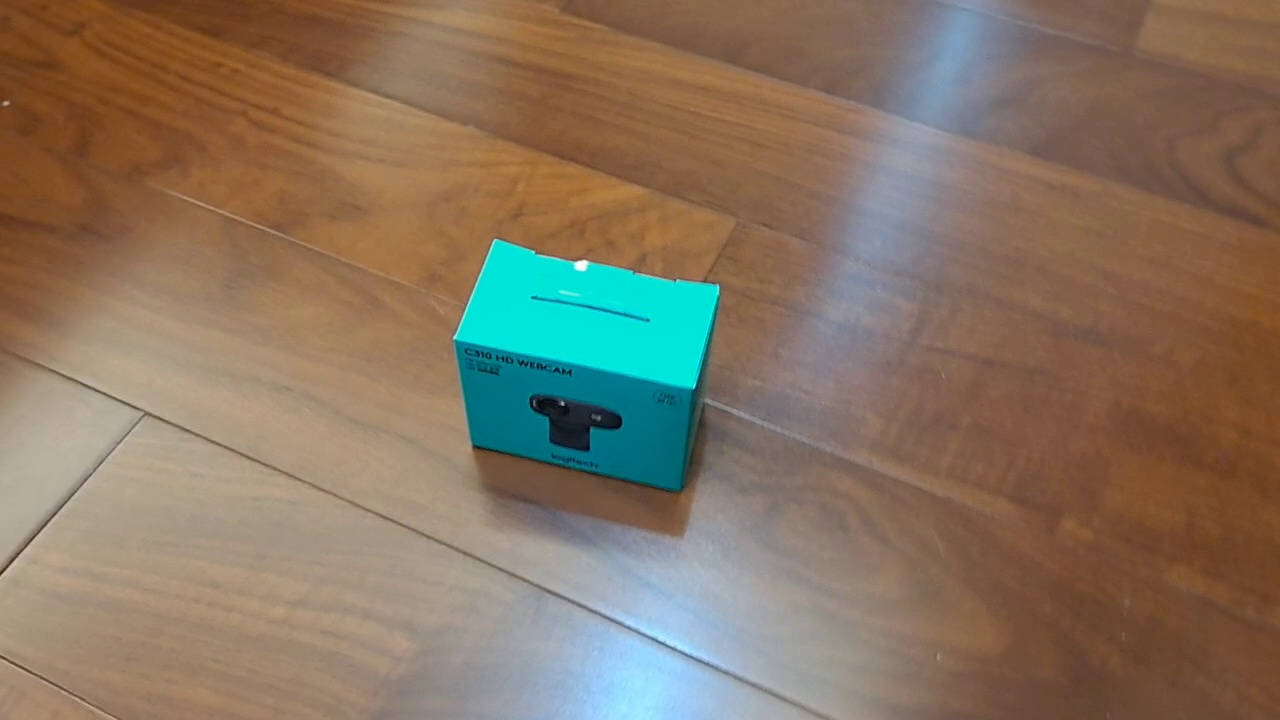webcam: (451, 237, 721, 494)
